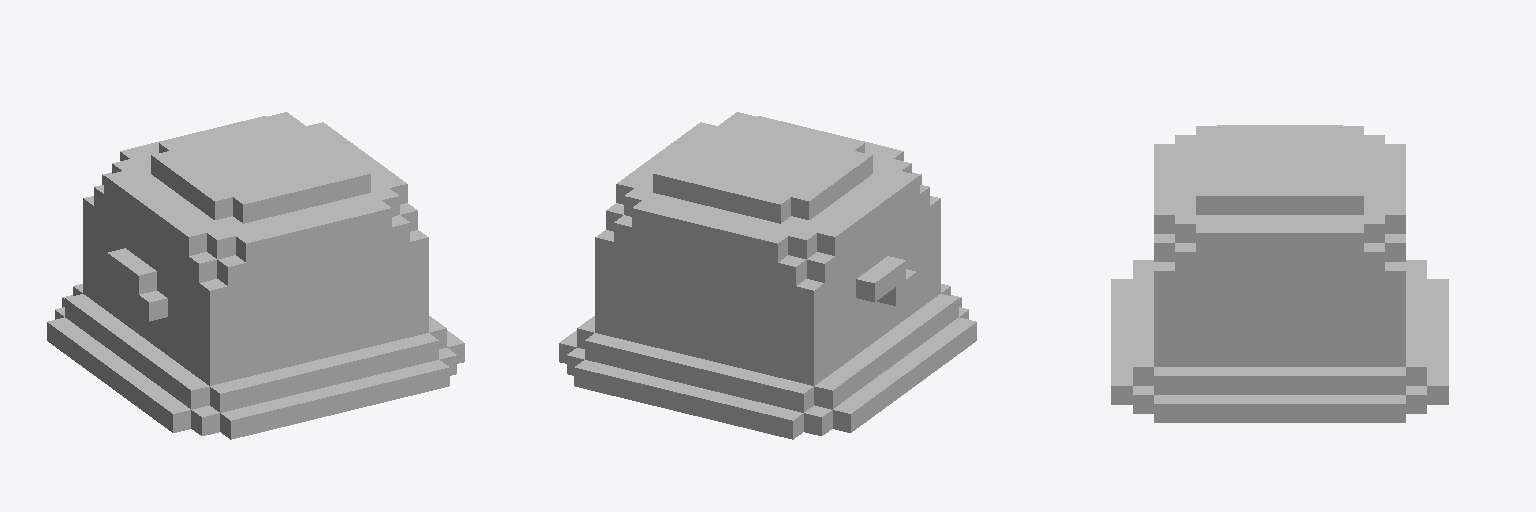
The model's file is slime.obj.
3 renders of one model, left to right at view 1: azimuth 30°, elevation 25°; view 2: azimuth 150°, elevation 25°; view 3: azimuth 270°, elevation 25°, orthographic.
Visible parts, largest first — view 1: object 1; view 2: object 1; view 3: object 1.
Boxes of the visible parts, <box> form: object 1: <box>47,112,464,439</box>; object 1: <box>559,112,976,439</box>; object 1: <box>1111,125,1448,422</box>.
Bounding box in the file's own units: 1.6 × 1 × 1.6.